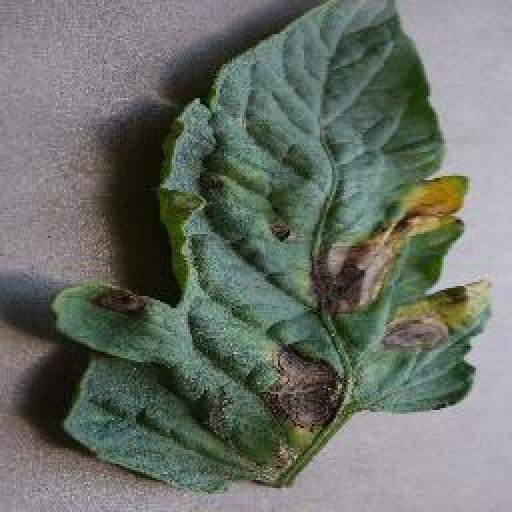Early Blight: (52, 0, 495, 495)
